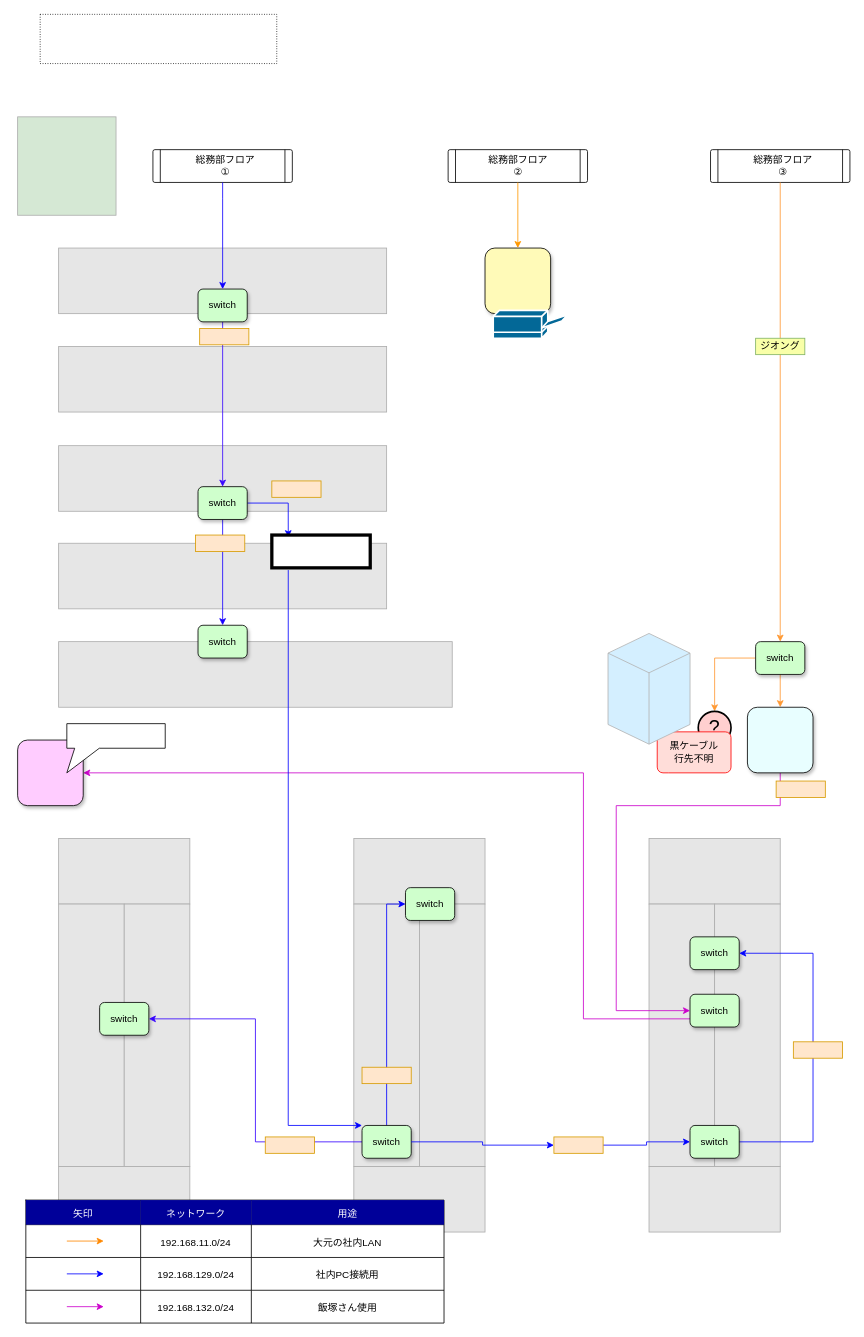
Image size: 864x1337. Some labels were removed from this diagram. Here are the shapes that lost their labels. From the top down, the centre of each, then its label:
(158,39): システム部フロア
(66,165): 喫煙室
(518,281): プリンタ
(320,551): 黒から青に接続 （接続コネクタ）
(648,688): 冷蔵庫
(115,748): 停止済み。 現在未使用
(780,741): Router (DOM_NET)
(51,773): Server
